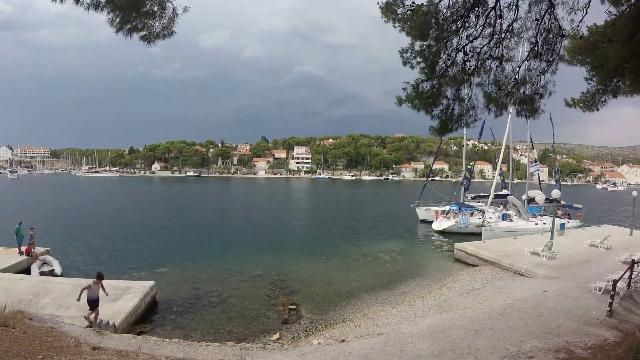ferry: (5, 168, 23, 180)
